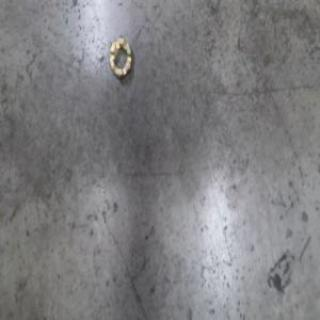Nuttrack_idkeyframe: (106, 34, 132, 80)
